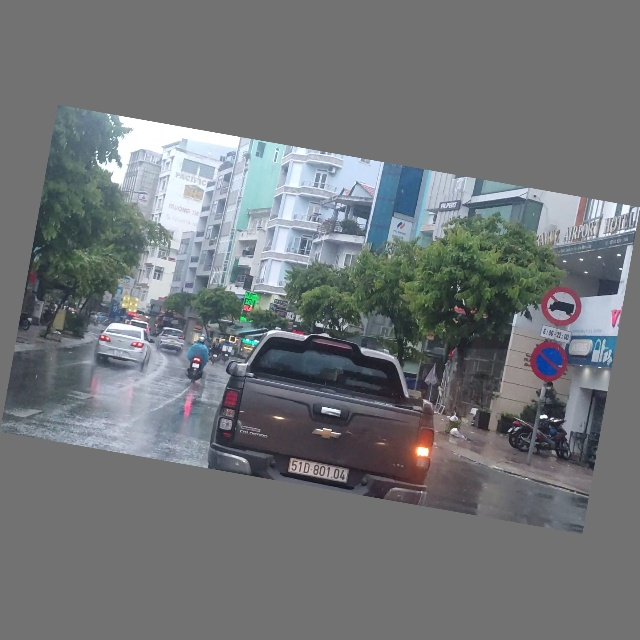P.106a*Xe tai: (538, 285, 585, 331)
P.131a: (527, 339, 571, 385)
